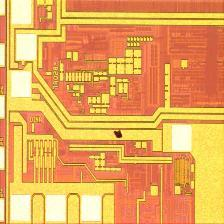PARTICLE: (113, 129, 125, 141)
